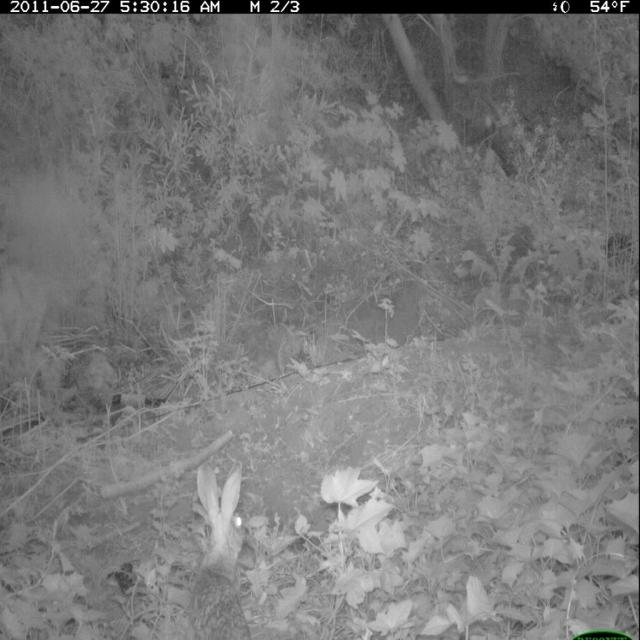rabbit: (188, 456, 252, 639)
